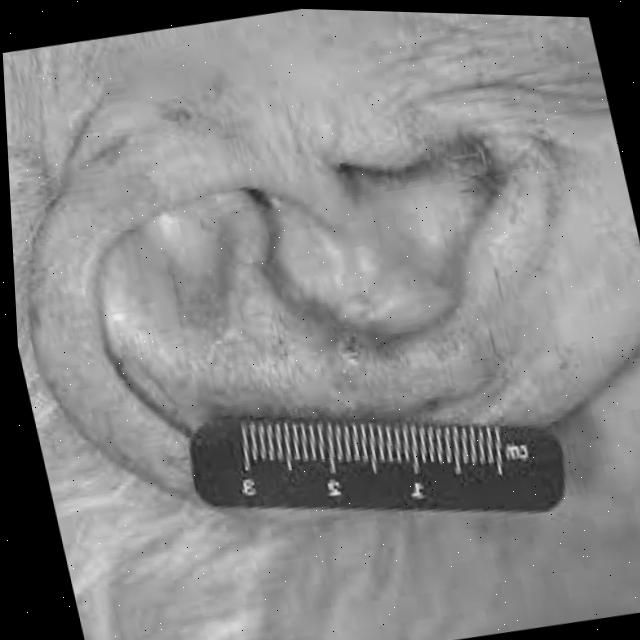Eczema: (140, 222, 499, 460)
